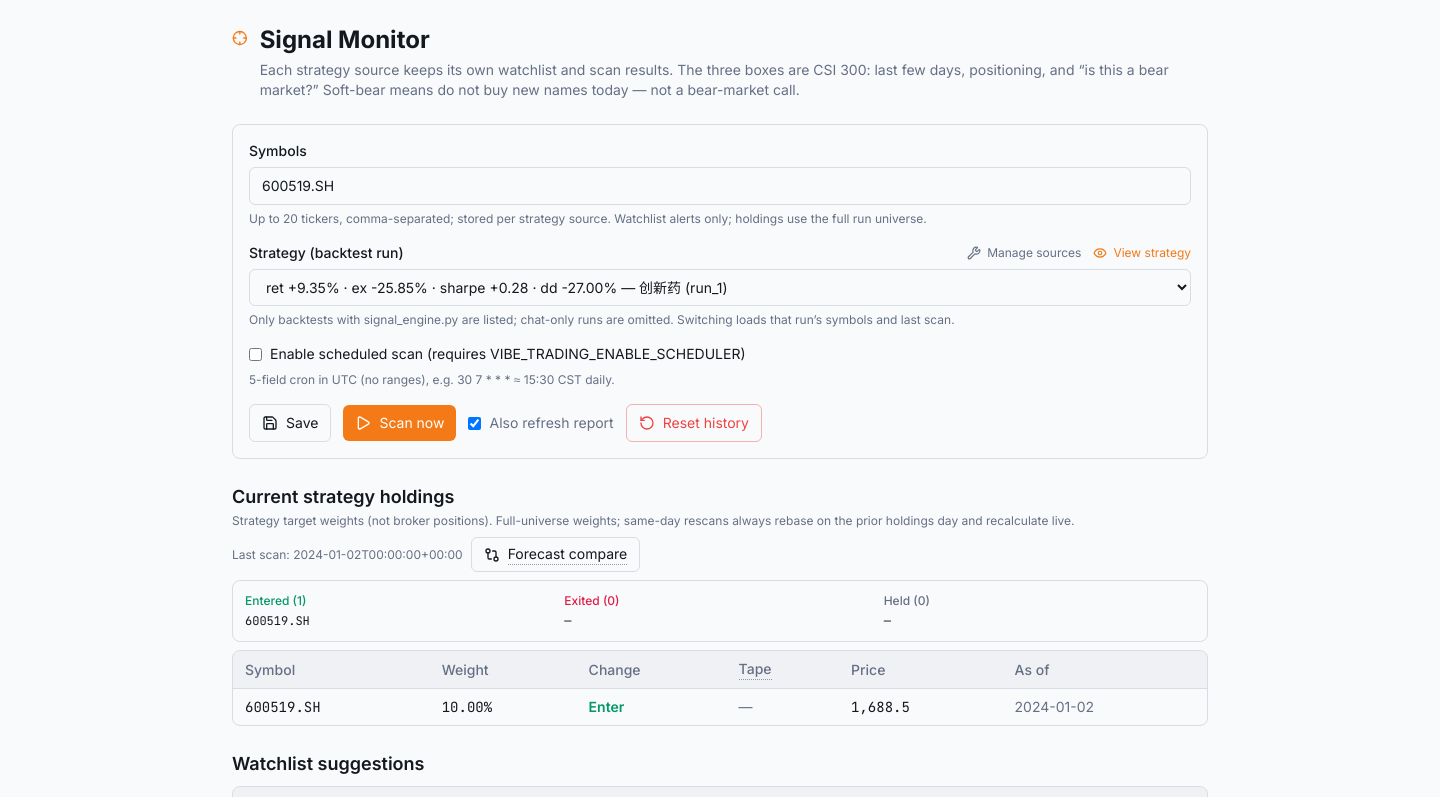
Test case: Monitor page › opens strategy details for the selected run
Click the button "View strategy": (1142, 253) [1093, 245, 1191, 261]
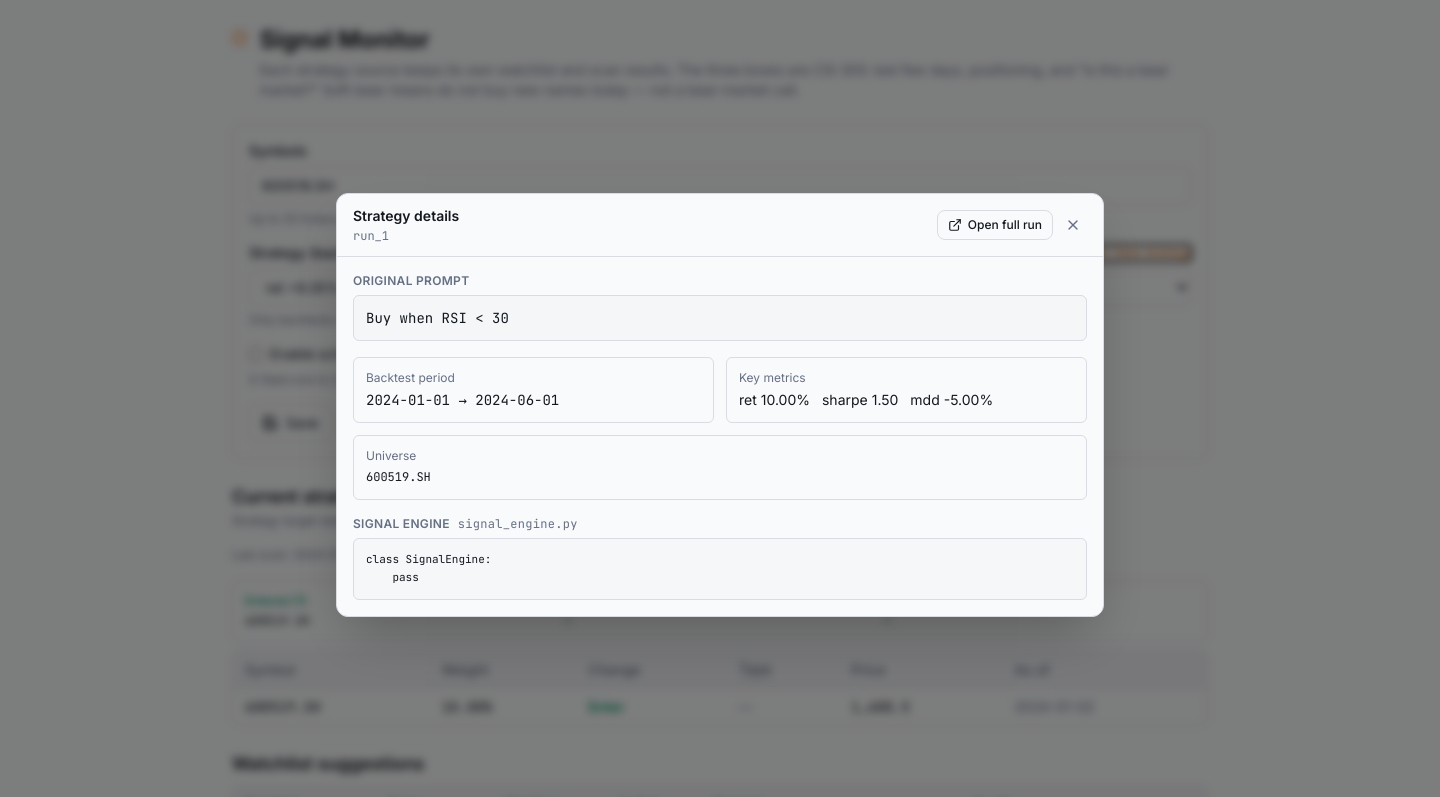
Result: the dialog is shown at [336, 193, 1104, 617]
Result: the text "Buy when RSI < 30" is shown at [353, 295, 1087, 341]
Result: the text "class SignalEngine: pass" is shown at [353, 538, 1087, 600]
